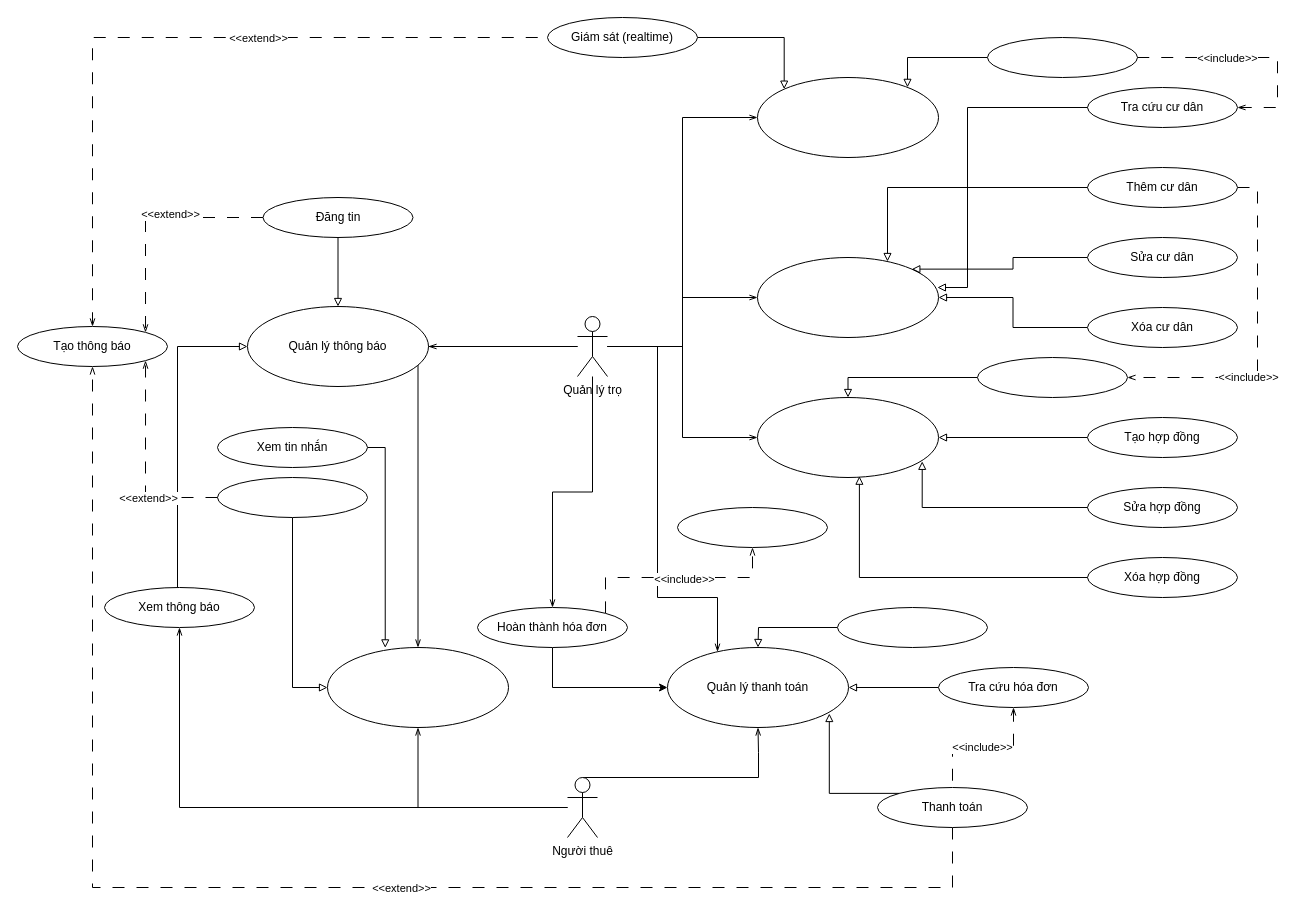
Some shapes in this 1303 by 913 pixel diagram are drawn without their labels. Here are the shapes that lost their labels. From the top down, the centre of each, then its label:
At point 1062,57: "Thêm dữ liệu gương mặt".
At point 847,117: "Quản lý an ninh".
At point 847,297: "Quản lý cư dân".
At point 1052,377: "Tra cứu hợp đồng".
At point 847,437: "Quản lý hợp đồng".
At point 292,497: "Nhắn tin".
At point 752,527: "Thêm dịch vụ".
At point 912,627: "Tra cứu giao dịch".
At point 417,687: "Quản lý tin nhắn".
